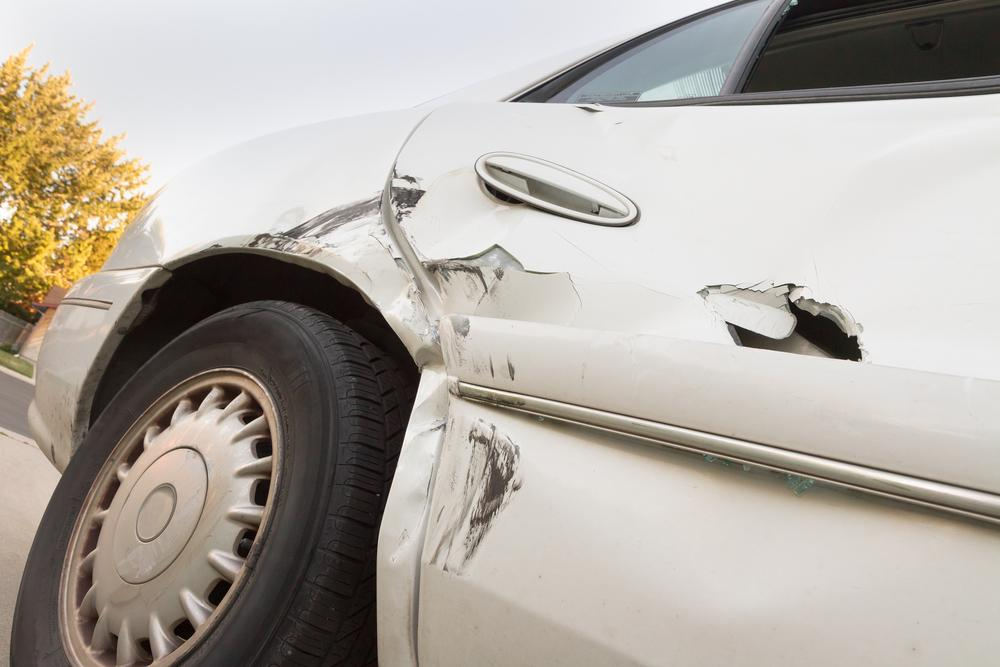crack: (726, 285, 863, 364)
scratch: (249, 191, 424, 323), (429, 414, 525, 582), (380, 155, 431, 222)
